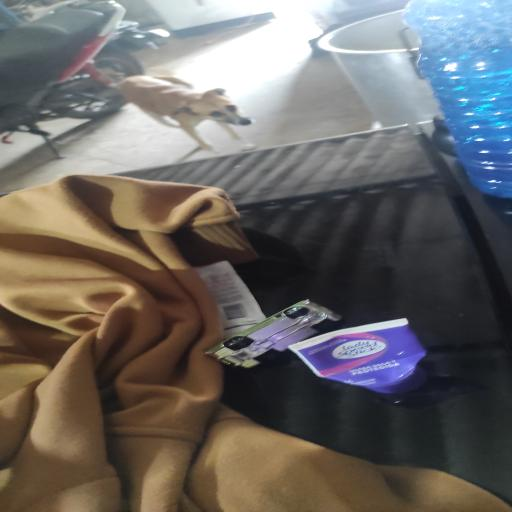Carrito: (205, 300, 340, 368)
